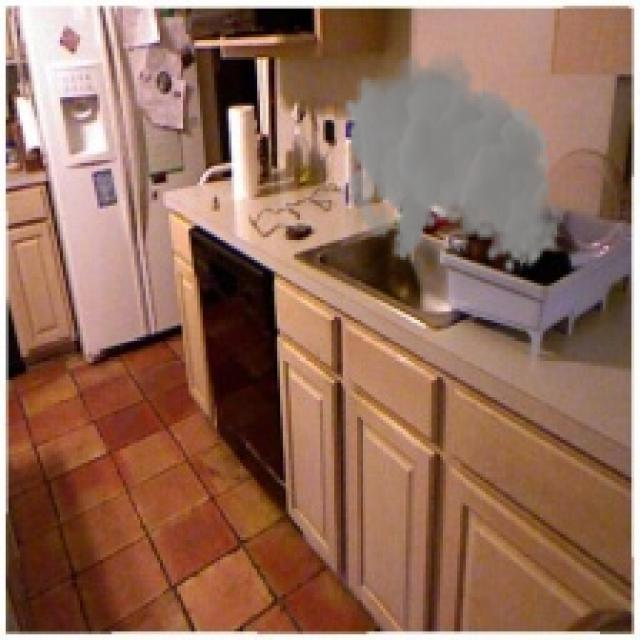Smoke: (343, 42, 560, 274)
